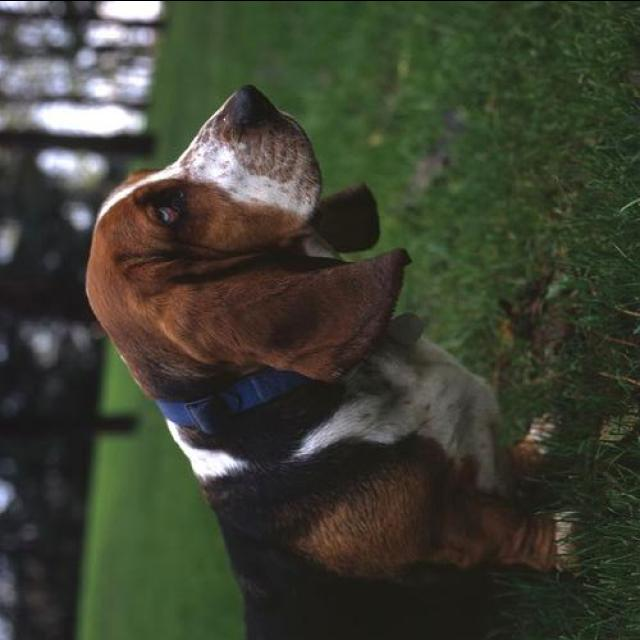basset: (84, 77, 588, 637)
